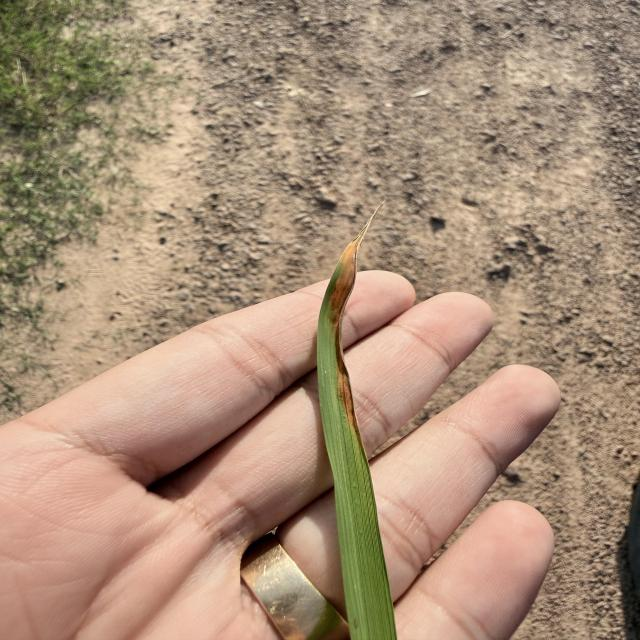Chay bia la: (326, 196, 389, 467)
